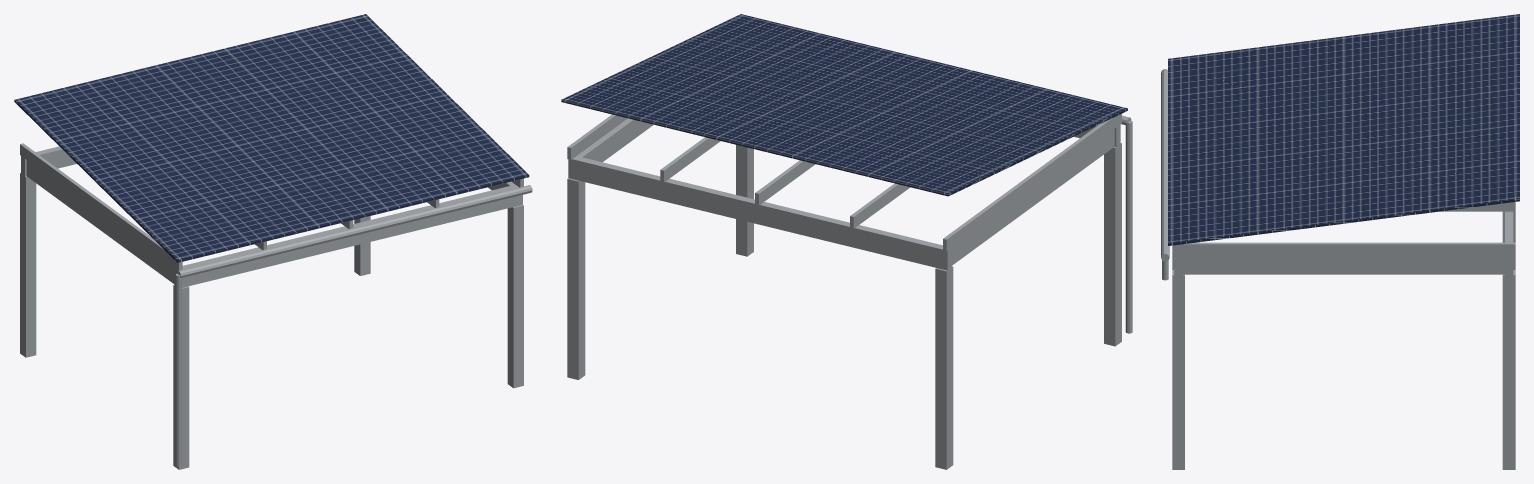
3 renders of one model, left to right at view 1: azimuth 30°, elevation 25°; view 2: azimuth 150°, elevation 25°; view 3: azimuth 270°, elevation 25°, orthographic. The views are drawn at different scales.
Visible parts, largest first — view 1: structure.solar_canopy (×2), steel_galv (×5); view 2: structure.solar_canopy (×2), steel_galv (×9); view 3: structure.solar_canopy (×2), steel_galv (×4).
Boxes of the visible parts, x1,y1,x2,y2 form: structure.solar_canopy (×2): (14, 14, 532, 467); steel_galv (×5): (20, 143, 523, 469); structure.solar_canopy (×2): (561, 14, 1132, 333); steel_galv (×9): (567, 114, 1121, 469); structure.solar_canopy (×2): (1161, 14, 1519, 280); steel_galv (×4): (1172, 202, 1515, 469).
Bounding box in the file's own units: 5.14 × 4.18 × 3.51.
2 materials, 1 textured.
